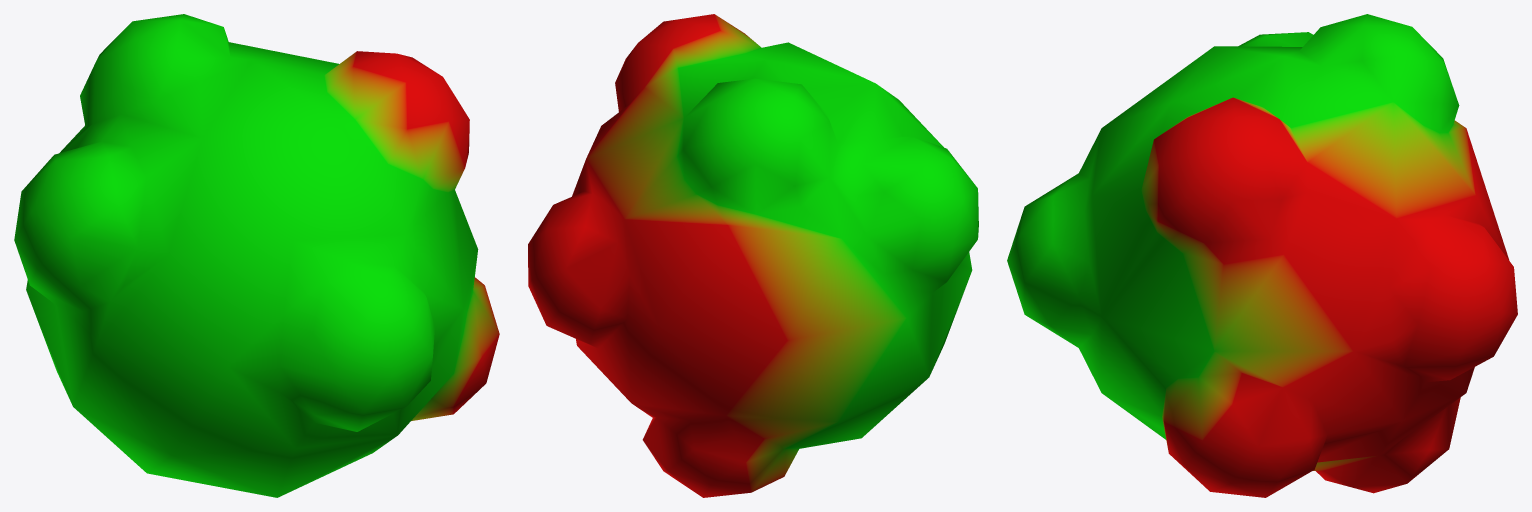
The model's file is SM_NP_Cloud_05.FBX.
3 views of the same model, side by side, from view 1: azimuth 30°, elevation 25°; view 2: azimuth 150°, elevation 25°; view 3: azimuth 270°, elevation 25° (orthographic). The views are drawn at different scales.
Visible parts, largest first — view 1: SM_NP_Cloud_05; view 2: SM_NP_Cloud_05; view 3: SM_NP_Cloud_05.
Boxes of the visible parts, box(x1,y1,x2,y2) form: SM_NP_Cloud_05: box(14, 14, 499, 497); SM_NP_Cloud_05: box(528, 14, 978, 497); SM_NP_Cloud_05: box(1007, 14, 1517, 497).
Size of the model in its own units: 57.14 by 58.95 by 56.4.
